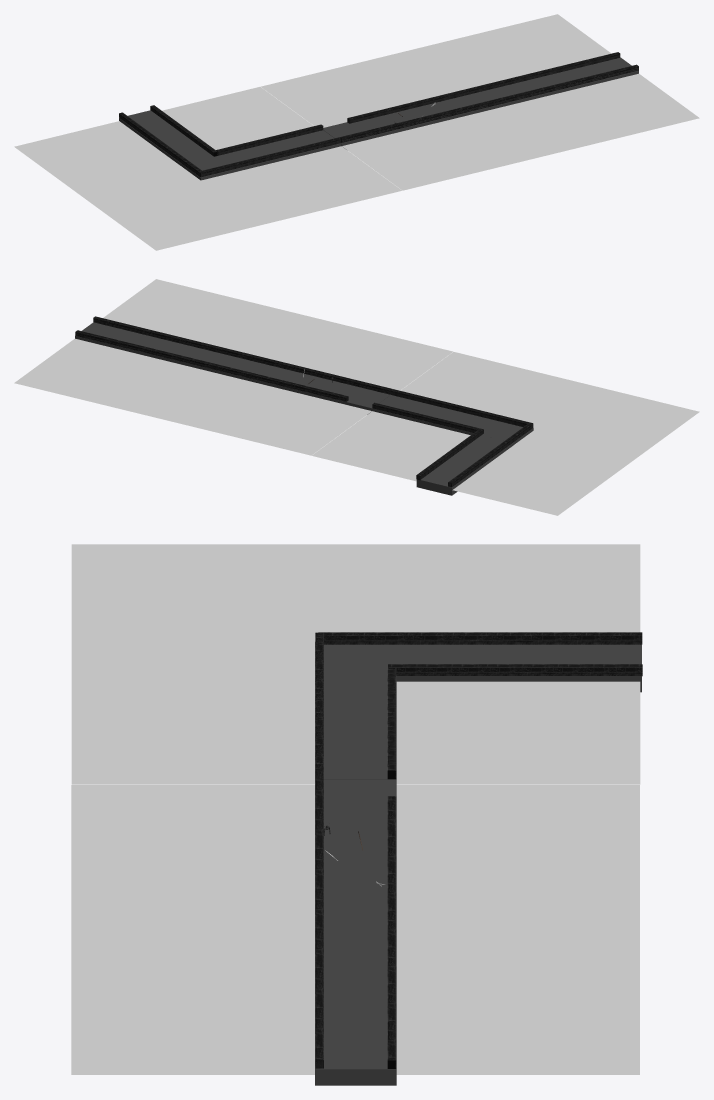
Rendered from RIGHT.fbx.
3 views of the same model, one above another, from view 1: azimuth 30°, elevation 25°; view 2: azimuth 150°, elevation 25°; view 3: azimuth 270°, elevation 25° (orthographic). The views are drawn at different scales.
Visible parts, largest first — view 1: Plane.049, straight path, Cube.026, Cube.009, Cube.008, Cube.044, Cube.043, Cube.046, Cube.045; view 2: Plane.049, straight path, Cube.026, Cube.009, Cube.008, Cube.044, Cube.043, Cube.046, Cube.045; view 3: Plane.049, straight path, Cube.026, Cube.046, Cube.045, Cube.008, Cube.009, Cube.044, Cube.043.
Boxes of the visible parts, x1,y1,x2,y2 form: Plane.049: [14, 14, 699, 250]; straight path: [323, 57, 638, 149]; Cube.026: [119, 110, 341, 180]; Cube.009: [339, 64, 638, 142]; Cube.008: [347, 52, 620, 123]; Cube.044: [199, 137, 340, 177]; Cube.043: [216, 124, 323, 155]; Cube.046: [119, 112, 201, 176]; Cube.045: [150, 105, 217, 156]; Plane.049: [14, 279, 699, 515]; straight path: [75, 322, 390, 414]; Cube.026: [372, 395, 533, 495]; Cube.009: [93, 316, 392, 394]; Cube.008: [75, 330, 348, 401]; Cube.044: [391, 389, 533, 427]; Cube.043: [372, 402, 479, 432]; Cube.046: [448, 423, 532, 487]; Cube.045: [416, 428, 483, 479]; Plane.049: [71, 544, 640, 1074]; straight path: [315, 779, 396, 1085]; Cube.026: [315, 642, 641, 779]; Cube.046: [318, 632, 642, 644]; Cube.045: [388, 664, 642, 676]; Cube.008: [387, 796, 396, 1068]; Cube.009: [315, 770, 323, 1068]; Cube.044: [315, 632, 323, 769]; Cube.043: [387, 668, 396, 779].
Bounding box in the file's own units: 15372 × 397 × 6993.
